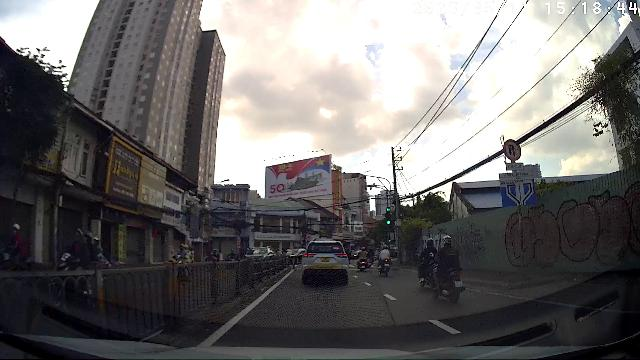124b-cam-oto-quay-dau-xe: (504, 139, 522, 160)
